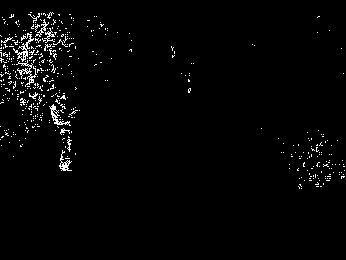person: (49, 92, 80, 174)
